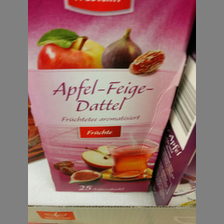tea: (28, 1, 193, 192)
